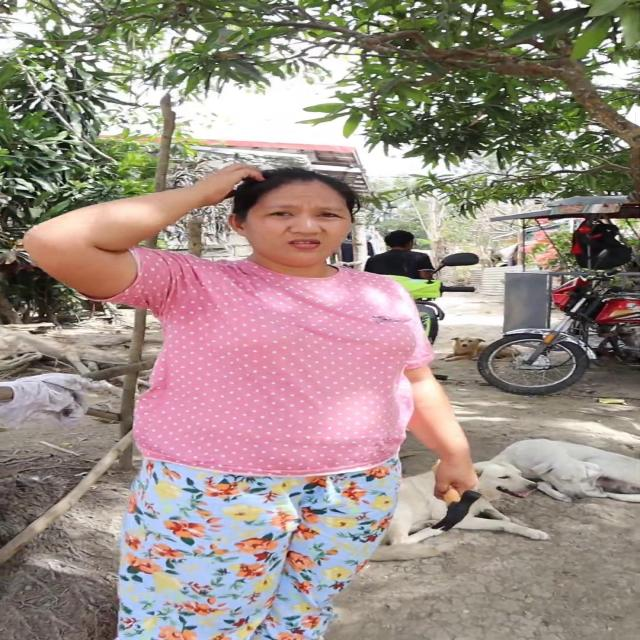hammer: (435, 470, 483, 534)
